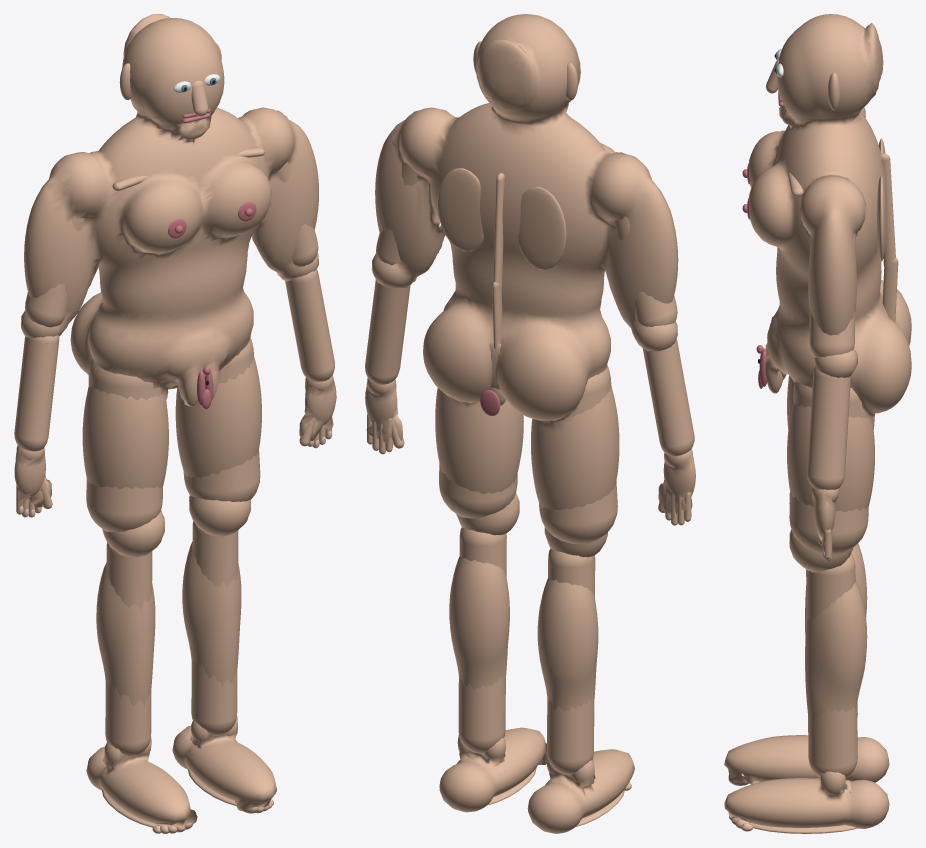
Rendered from body-erwachsener-weiblich-v2.glb.
3 renders of one model, left to right at view 1: azimuth 30°, elevation 25°; view 2: azimuth 150°, elevation 25°; view 3: azimuth 270°, elevation 25°, orthographic. The views are drawn at different scales.
Parts seen in each view (by area): view 1: zone__visual-surface-body-erwachsener-weiblich, zone__surface-lower-leg-right, zone__surface-lower-leg-left, zone__surface-thigh-left, zone__surface-forearm-left, zone__surface-forearm-right, zone__surface-thigh-right, zone__surface-upper-arm-left, zone__surface-upper-arm-right; view 2: zone__visual-surface-body-erwachsener-weiblich, zone__surface-lower-leg-right, zone__surface-lower-leg-left, zone__surface-forearm-left, zone__surface-thigh-left, zone__surface-forearm-right, zone__surface-scapula-left, zone__surface-scapula-right, zone__surface-thigh-right, zone__surface-upper-arm-left, zone__surface-thoracic-spine, zone__surface-upper-arm-right (+1 smaller); view 3: zone__visual-surface-body-erwachsener-weiblich, zone__surface-lower-leg-right, zone__surface-forearm-right, zone__surface-thigh-right, zone__surface-upper-arm-right, zone__surface-thoracic-spine, zone__surface-lumbar-spine, zone__surface-scapula-right, zone__surface-sole-right, zone__surface-ear-right.
Part boxes in pixels (box(x1,y1,x2,y2)): zone__visual-surface-body-erwachsener-weiblich: box(14, 14, 336, 827); zone__surface-lower-leg-right: box(191, 521, 238, 735); zone__surface-lower-leg-left: box(105, 542, 152, 756); zone__surface-thigh-left: box(86, 359, 164, 532); zone__surface-forearm-left: box(14, 335, 59, 451); zone__surface-forearm-right: box(285, 269, 334, 381); zone__surface-thigh-right: box(183, 338, 260, 501); zone__surface-upper-arm-left: box(25, 217, 84, 327); zone__surface-upper-arm-right: box(277, 162, 318, 266); zone__visual-surface-body-erwachsener-weiblich: box(365, 14, 695, 833); zone__surface-lower-leg-right: box(458, 527, 506, 753); zone__surface-lower-leg-left: box(547, 549, 595, 775); zone__surface-forearm-left: box(642, 339, 694, 456); zone__surface-thigh-left: box(539, 365, 617, 543); zone__surface-forearm-right: box(365, 279, 410, 384); zone__surface-scapula-left: box(518, 187, 566, 269); zone__surface-scapula-right: box(437, 168, 483, 251); zone__surface-thigh-right: box(439, 463, 517, 518); zone__surface-upper-arm-left: box(614, 216, 677, 326); zone__surface-thoracic-spine: box(493, 172, 504, 290); zone__surface-upper-arm-right: box(376, 162, 417, 265); zone__visual-surface-body-erwachsener-weiblich: box(724, 14, 911, 828); zone__surface-lower-leg-right: box(806, 553, 857, 777); zone__surface-forearm-right: box(807, 366, 850, 489); zone__surface-thigh-right: box(789, 381, 870, 554); zone__surface-upper-arm-right: box(809, 233, 855, 357); zone__surface-thoracic-spine: box(880, 153, 895, 269); zone__surface-lumbar-spine: box(882, 257, 898, 322); zone__surface-scapula-right: box(877, 176, 886, 261); zone__surface-sole-right: box(750, 822, 857, 833); zone__surface-ear-right: box(828, 72, 840, 110).
Bounding box in the file's own units: 0.7529 × 1.72 × 0.3726.
